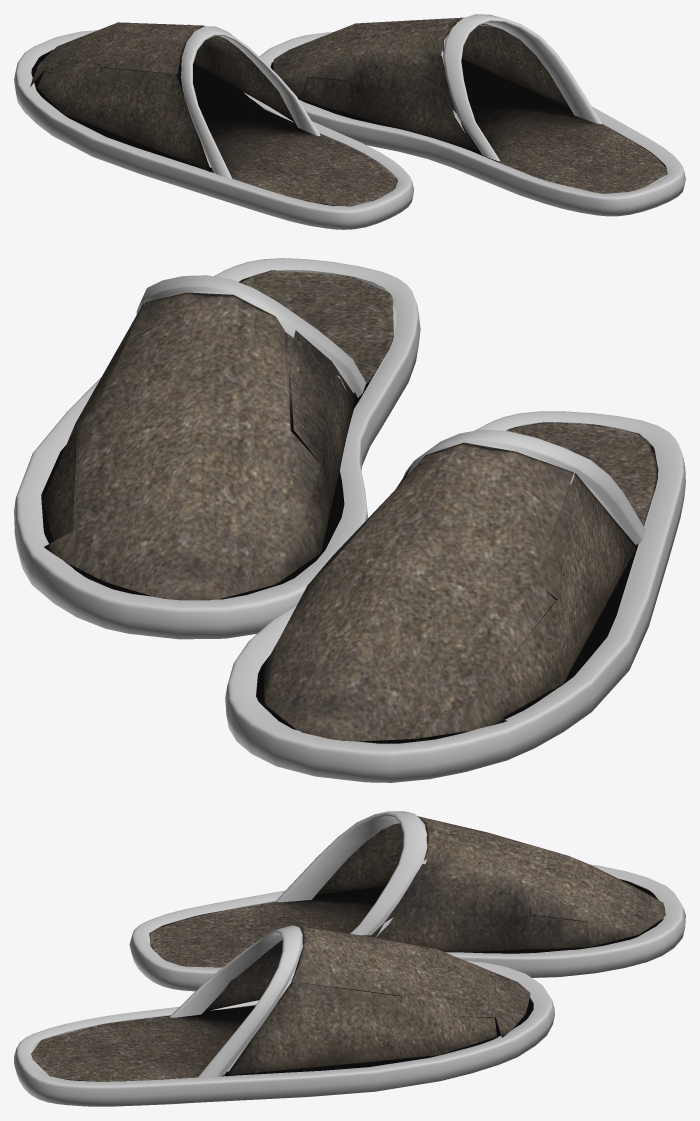
Rendered from slippers.obj.
3 views of the same model, one above another, from view 1: azimuth 30°, elevation 25°; view 2: azimuth 150°, elevation 25°; view 3: azimuth 270°, elevation 25° (orthographic). The views are drawn at different scales.
Parts seen in each view (by area): view 1: Mesh_1_Mesh_1_voylok, Mesh_0_Mesh_0_shvy; view 2: Mesh_1_Mesh_1_voylok, Mesh_0_Mesh_0_shvy; view 3: Mesh_1_Mesh_1_voylok, Mesh_0_Mesh_0_shvy.
Boxes of the visible parts, x1,y1,x2,y2 form: Mesh_1_Mesh_1_voylok: (30,17,667,206); Mesh_0_Mesh_0_shvy: (14,14,685,229); Mesh_1_Mesh_1_voylok: (41,270,658,743); Mesh_0_Mesh_0_shvy: (14,258,685,782); Mesh_1_Mesh_1_voylok: (31,816,665,1081); Mesh_0_Mesh_0_shvy: (14,811,685,1106).
Size of the model in its own units: 0.3575 by 0.0886 by 0.4457.
2 materials, 1 textured.
